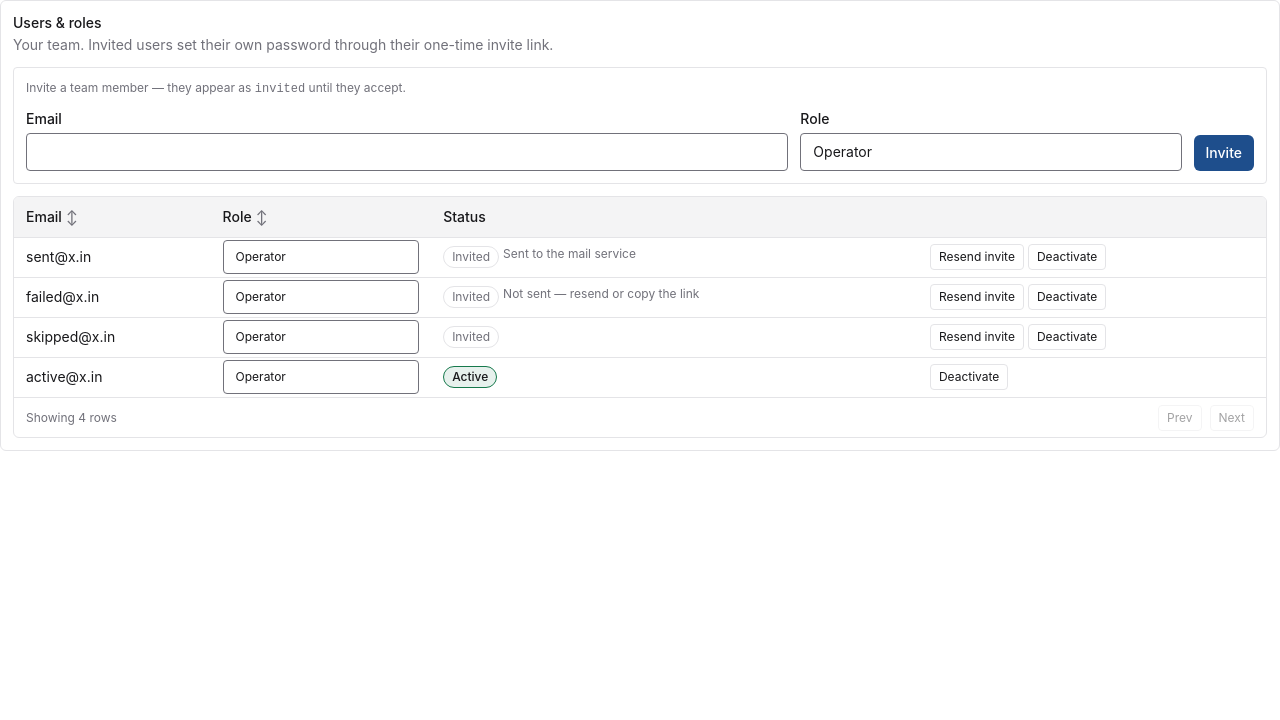
Test: Team card — the invite email (story 5-1a) › Resend invite shows on invited rows only, asks first, then sends one keyed POST and shows the fresh link
The width and height of the screenshot is (1280, 720).
Click the button "Resend invite" in the row of "failed@x.in".
click(977, 297)  # box [930,284,1024,310]
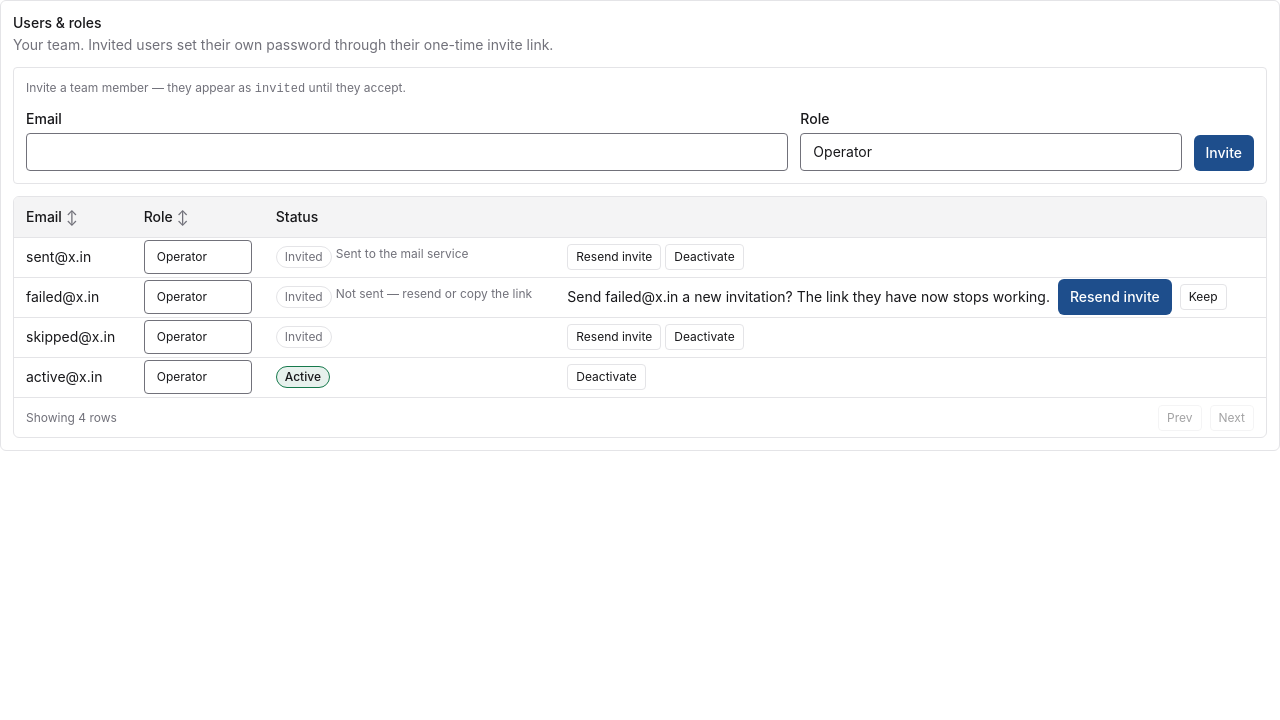
expect the text "Send failed@x.in a new invitation? The link they have now stops working." is shown: met, box [567,287,1050,307]
Click the button "Resend invite" in the row of "Not sent — resend or copy the link".
click(1115, 297)  # box [1058,279,1172,315]
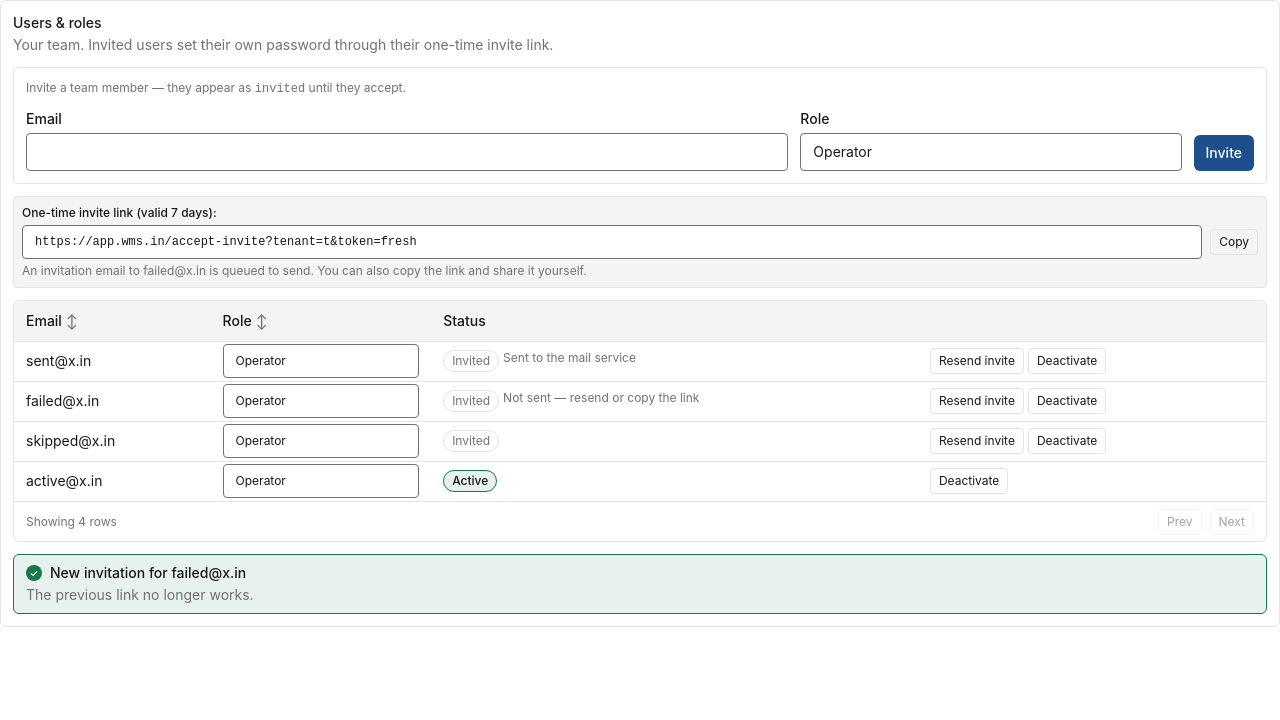
expect the field named "One-time invite link" holds "https://app.wms.in/accept-invite?tenant=t&token=fresh": met, box [22,225,1202,259]
expect the text "New invitation for failed@x.in" is shown: met, box [50,564,246,581]
